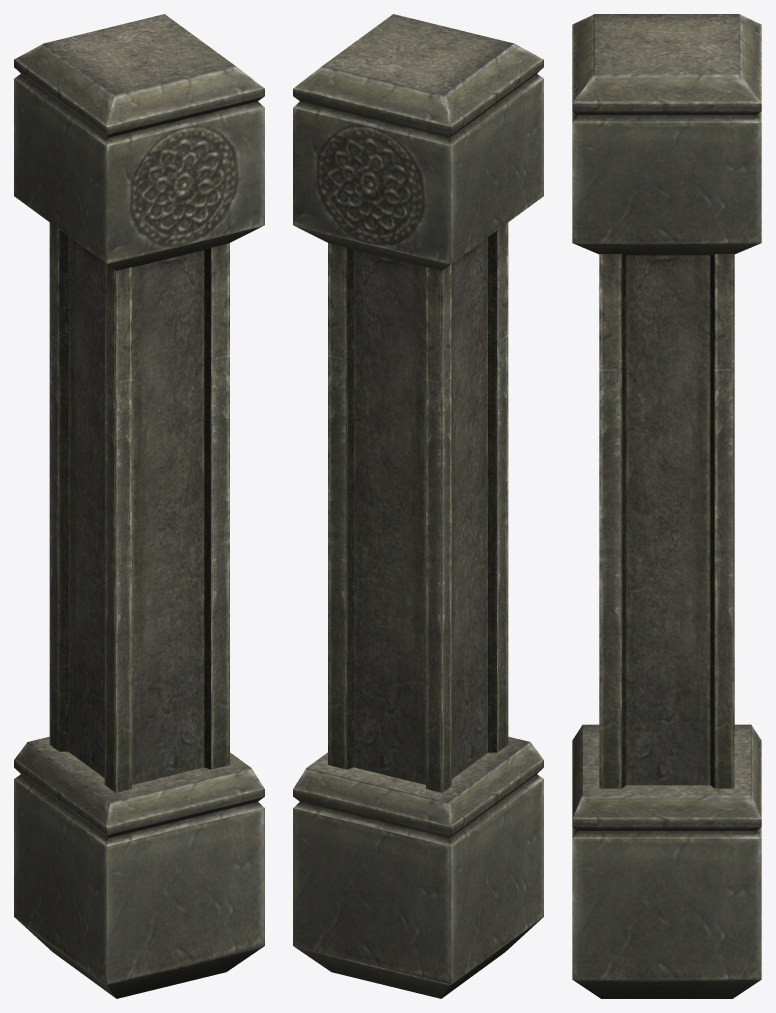
File: dawnmist_wallpillar00.fbx
3 views of the same model, side by side, from view 1: azimuth 30°, elevation 25°; view 2: azimuth 150°, elevation 25°; view 3: azimuth 270°, elevation 25° (orthographic). The views are drawn at different scales.
Parts seen in each view (by area): view 1: lDawnMist_wallpillar00; view 2: lDawnMist_wallpillar00; view 3: lDawnMist_wallpillar00.
Boxes of the visible parts, x1=… form: lDawnMist_wallpillar00: x1=14, y1=14, x2=264, y2=998; lDawnMist_wallpillar00: x1=293, y1=14, x2=543, y2=998; lDawnMist_wallpillar00: x1=572, y1=14, x2=761, y2=998.
Size of the model in its own units: 2.05 by 11.21 by 2.07.
